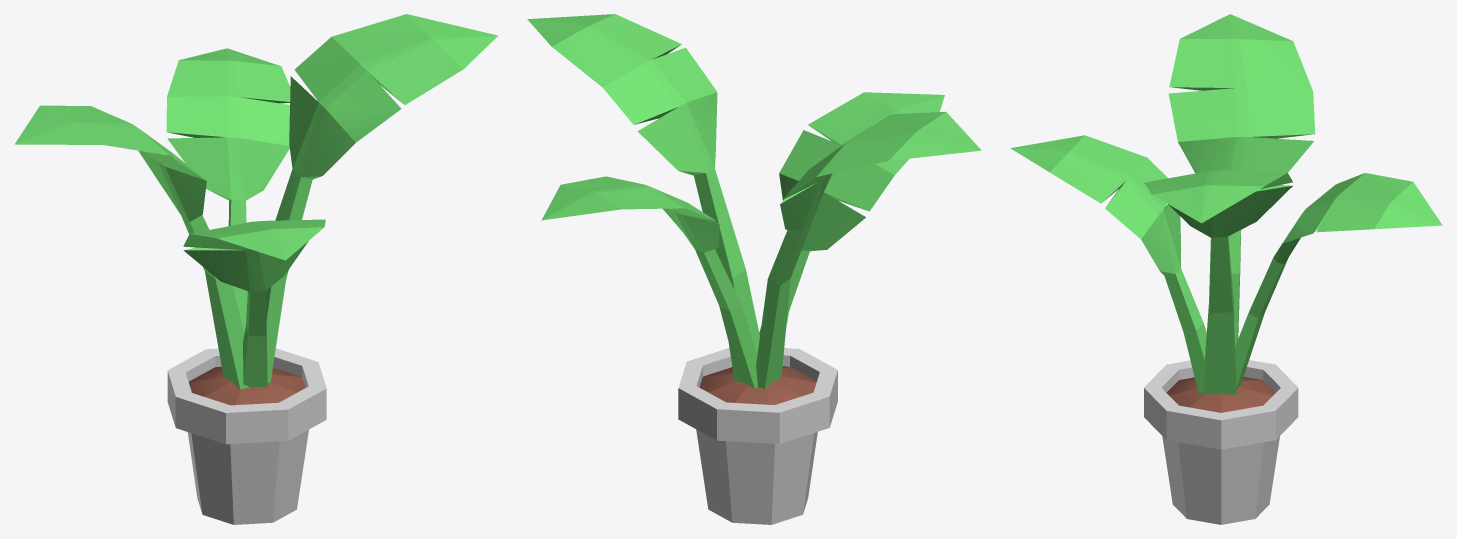
Rendered from tree_02.fbx.
3 renders of one model, left to right at view 1: azimuth 30°, elevation 25°; view 2: azimuth 150°, elevation 25°; view 3: azimuth 270°, elevation 25°, orthographic. The views are drawn at different scales.
Parts seen in each view (by area): view 1: tree_02; view 2: tree_02; view 3: tree_02.
Boxes of the visible parts, x1,y1,x2,y2 form: tree_02: [15, 14, 497, 524]; tree_02: [527, 14, 981, 524]; tree_02: [1010, 14, 1442, 524].
Size of the model in its own units: 22.1 by 19.29 by 18.82.
Materials: 1 (1 with a texture image).
